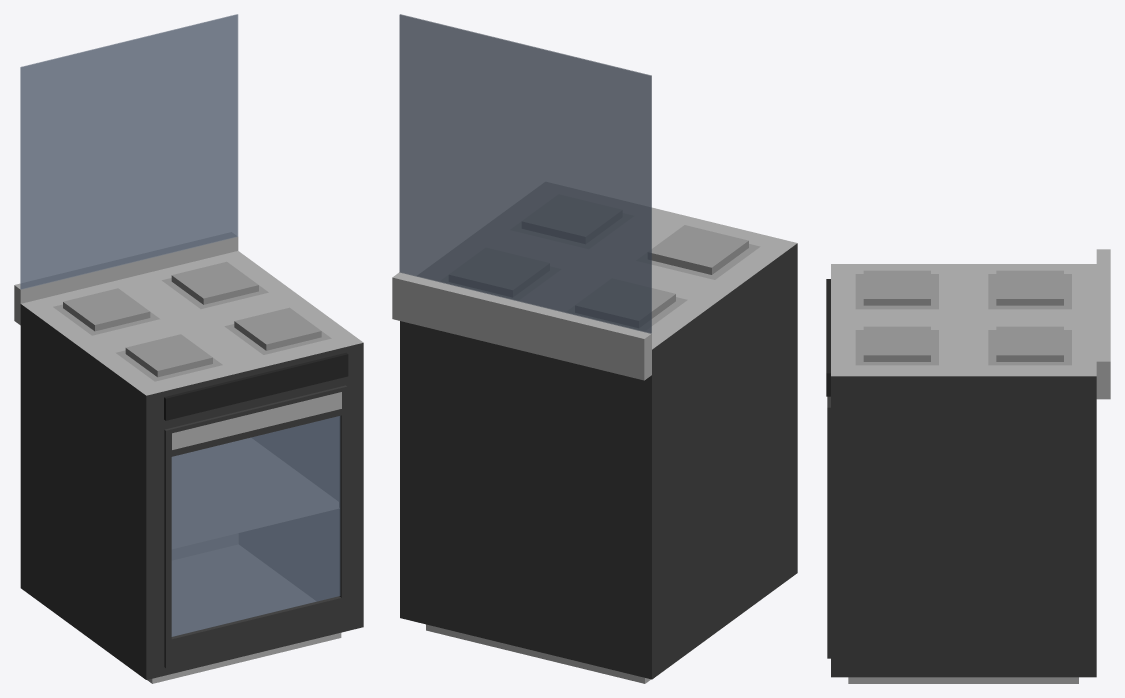
File: stove.fbx
The picture shows the model from 3 angles, left to right: view 1: azimuth 30°, elevation 25°; view 2: azimuth 150°, elevation 25°; view 3: azimuth 270°, elevation 25°; orthographic projection. The views are drawn at different scales.
Parts seen in each view (by area): view 1: stove, door; view 2: stove; view 3: stove, door.
Part boxes in pixels (x1=…): stove: x1=14, y1=14, x2=363, y2=683; door: x1=164, y1=385, x2=347, y2=667; stove: x1=392, y1=14, x2=797, y2=683; stove: x1=826, y1=249, x2=1110, y2=683; door: x1=827, y1=396, x2=830, y2=658.
Size of the model in its own units: 200 by 469 by 214.
